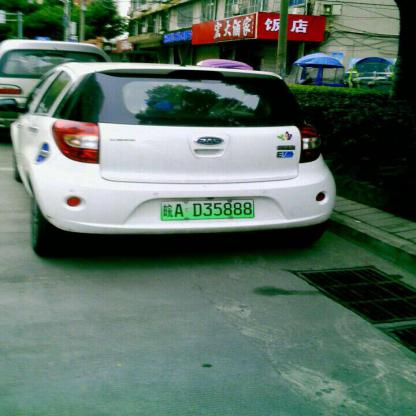lp: (162, 198, 254, 218)
